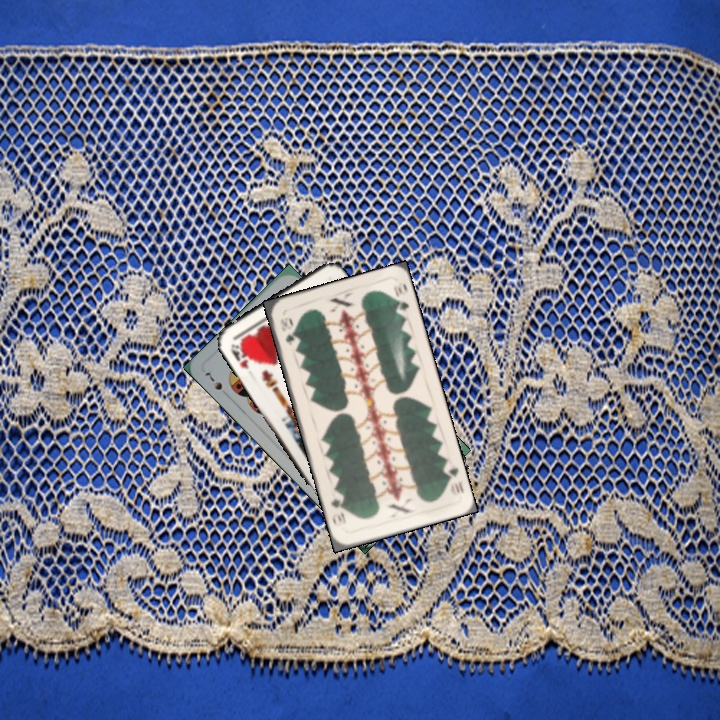G10: (440, 461, 466, 499), (276, 314, 297, 348)
HK: (226, 339, 253, 372)
S7: (201, 368, 225, 393)
